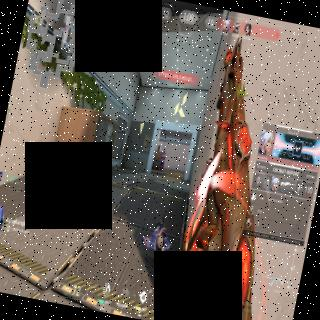ENEMY-BODY: (158, 149, 167, 173)
ENEMY-HEAD: (162, 150, 165, 154)
